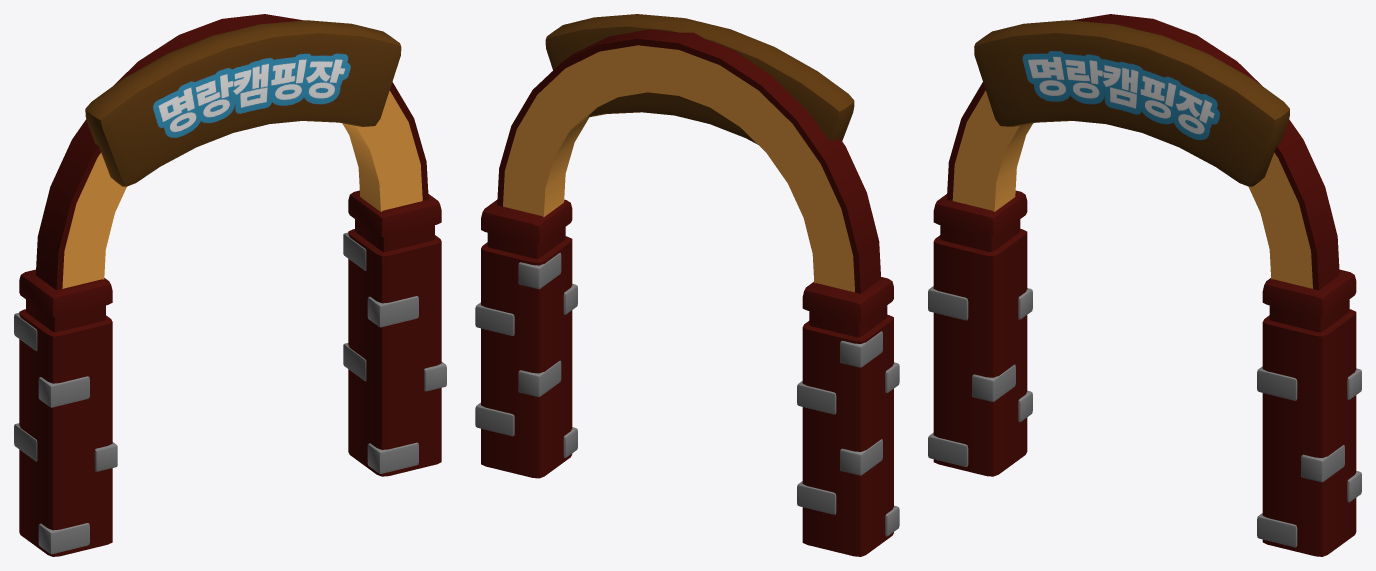
Rendered from entrance_sign.fbx.
The picture shows the model from 3 angles, left to right: view 1: azimuth 30°, elevation 25°; view 2: azimuth 150°, elevation 25°; view 3: azimuth 330°, elevation 25°; orthographic projection. The views are drawn at different scales.
Visible parts, largest first — view 1: Box002, Box004; view 2: Box002, Box004; view 3: Box002, Box004.
Part boxes in pixels (bbox=[...]): Box002: bbox=[14, 14, 446, 556]; Box004: bbox=[85, 20, 401, 186]; Box002: bbox=[475, 29, 899, 556]; Box004: bbox=[545, 14, 854, 144]; Box002: bbox=[928, 14, 1361, 556]; Box004: bbox=[974, 20, 1289, 186].
Bounding box in the file's own units: 305 × 347 × 56.23.
Materials: 4 (1 with a texture image).
